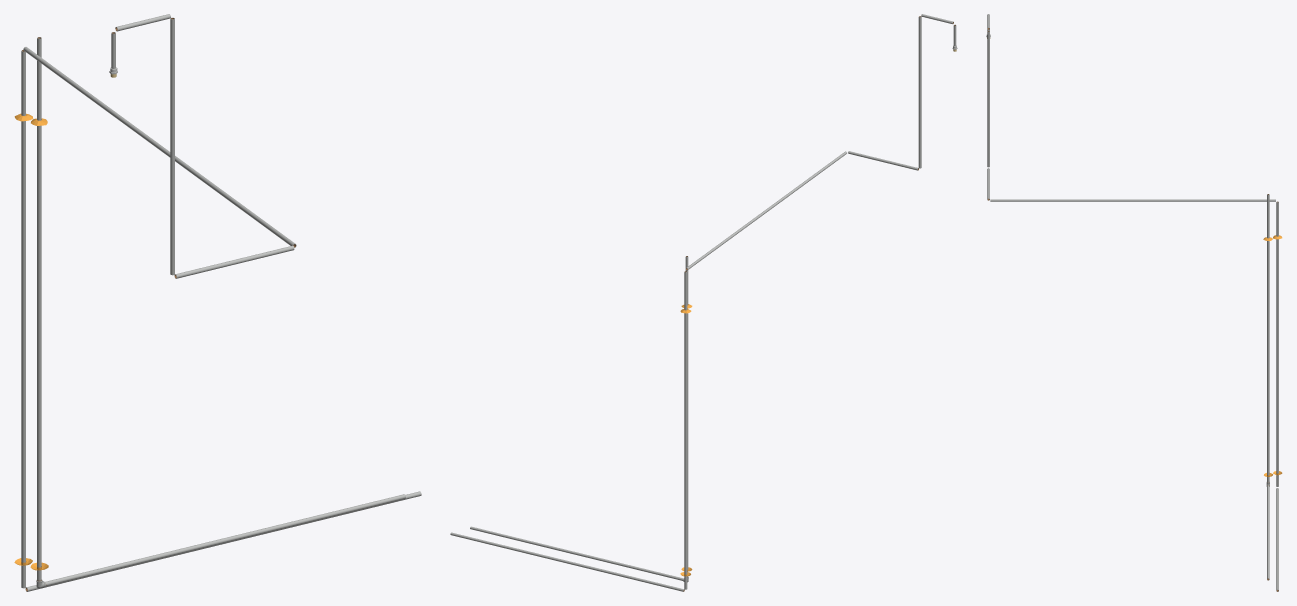
File: pipes_supply__water_heater-attic_gas_tank+attic_electric_tank_and_plumbing-galvanized.glb
3 renders of one model, left to right at view 1: azimuth 30°, elevation 25°; view 2: azimuth 150°, elevation 25°; view 3: azimuth 270°, elevation 25°, orthographic. The views are drawn at different scales.
Visible parts, largest first — view 1: pipe_supply_hot_wh_attic__galvanized, pipe_supply_cold_chase__galvanized; view 2: pipe_supply_hot_wh_attic__galvanized, pipe_supply_cold_chase__galvanized; view 3: pipe_supply_hot_wh_attic__galvanized, pipe_supply_cold_chase__galvanized.
Part boxes in pixels (box(x1,y1,x2,y2)): pipe_supply_hot_wh_attic__galvanized: box(21, 14, 421, 591); pipe_supply_cold_chase__galvanized: box(37, 37, 405, 586); pipe_supply_hot_wh_attic__galvanized: box(450, 14, 956, 591); pipe_supply_cold_chase__galvanized: box(470, 256, 688, 580); pipe_supply_hot_wh_attic__galvanized: box(987, 14, 1278, 591); pipe_supply_cold_chase__galvanized: box(1267, 194, 1269, 580).
Bounding box in the file's own units: 3.82 × 5.07 × 3.17.
